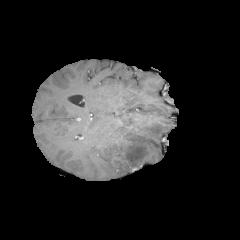glioma: (117, 108, 166, 166)
